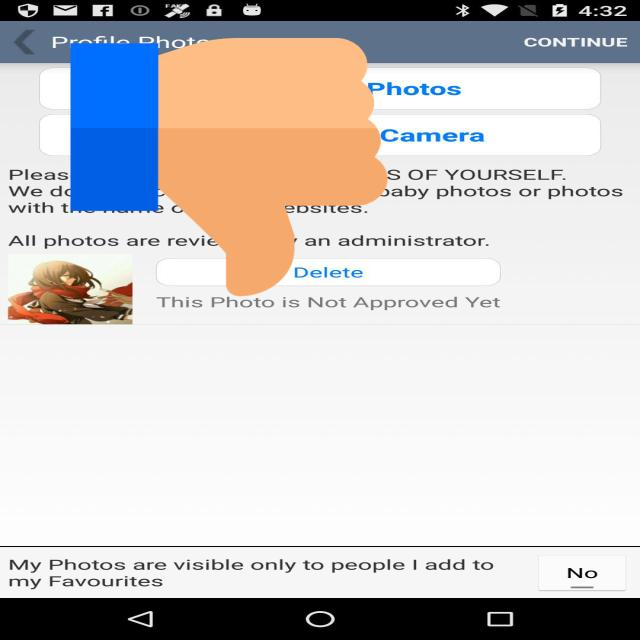obstruction: (70, 31, 388, 302)
